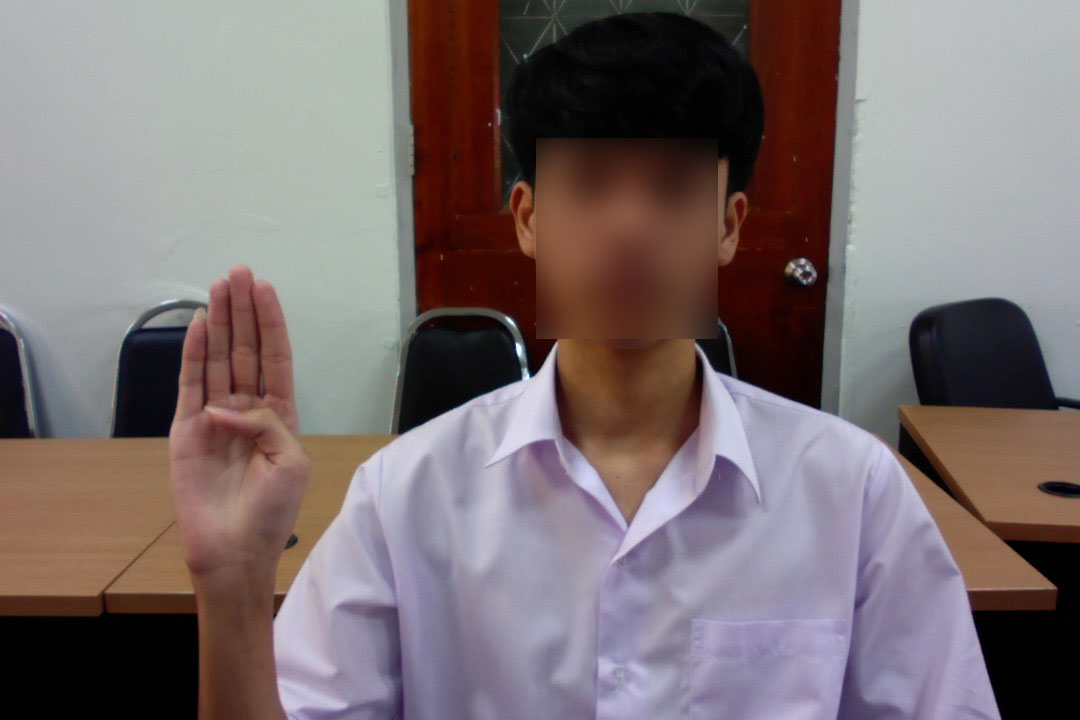bor: (161, 257, 312, 591)
